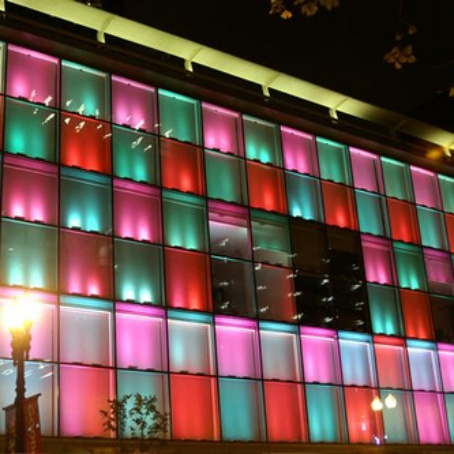building: (4, 31, 454, 454)
